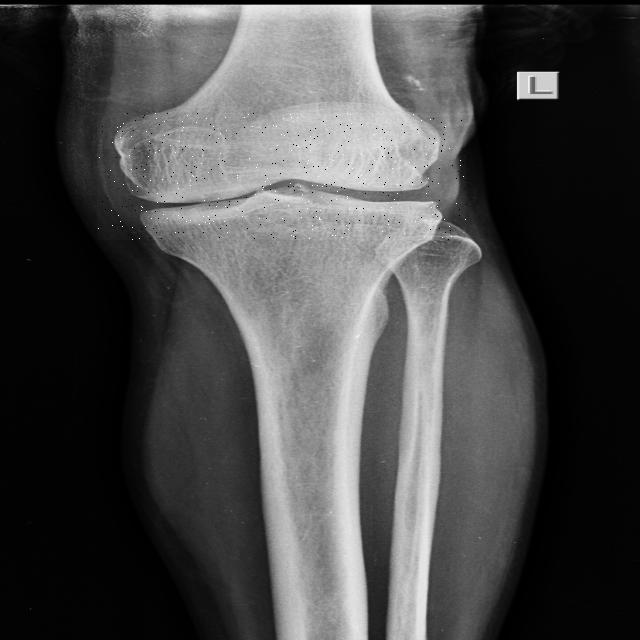osteo: (97, 113, 466, 240)
